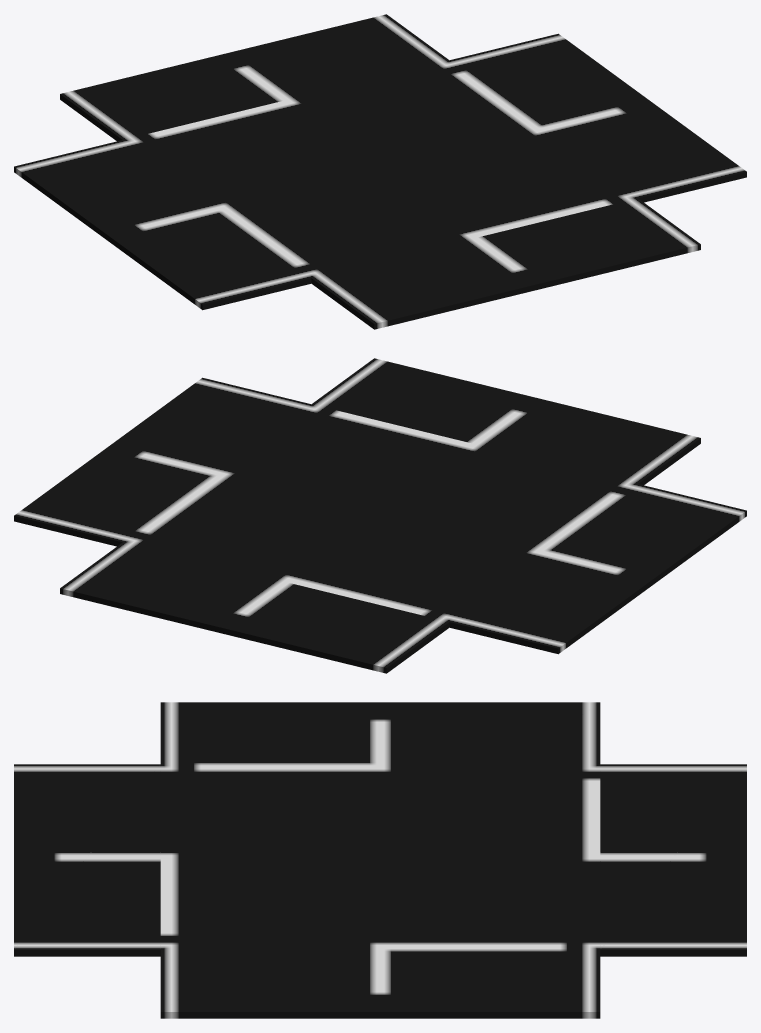
The model's file is Carretera8.fbx.
The picture shows the model from 3 angles, top to bottom: view 1: azimuth 30°, elevation 25°; view 2: azimuth 150°, elevation 25°; view 3: azimuth 270°, elevation 25°; orthographic projection. The views are drawn at different scales.
Parts seen in each view (by area): view 1: Carretera8; view 2: Carretera8; view 3: Carretera8.
Boxes of the visible parts, x1,y1,x2,y2 form: Carretera8: [14, 14, 746, 329]; Carretera8: [14, 358, 746, 673]; Carretera8: [14, 702, 746, 1018].
Size of the model in its own units: 100 by 1 by 100.
